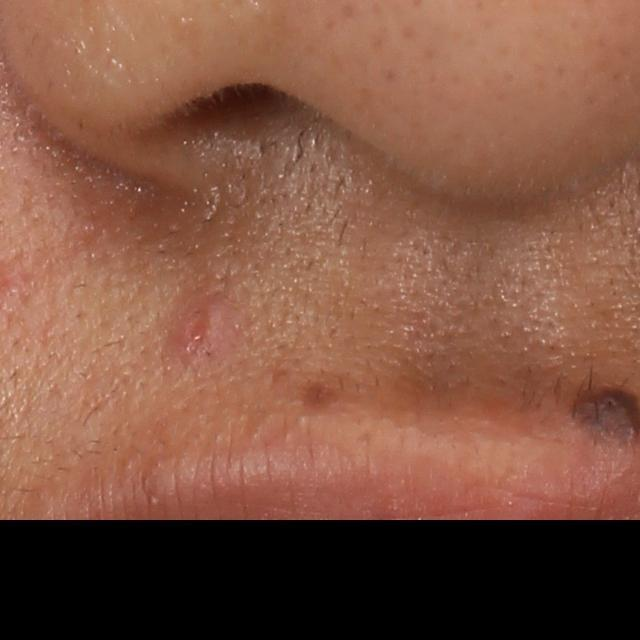nevus: (573, 384, 636, 442)
papule: (167, 296, 240, 360)
